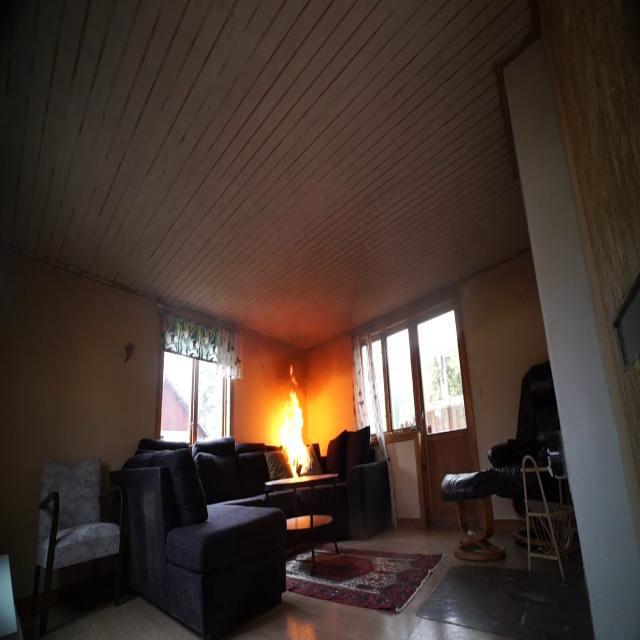fire: (277, 363, 314, 481)
